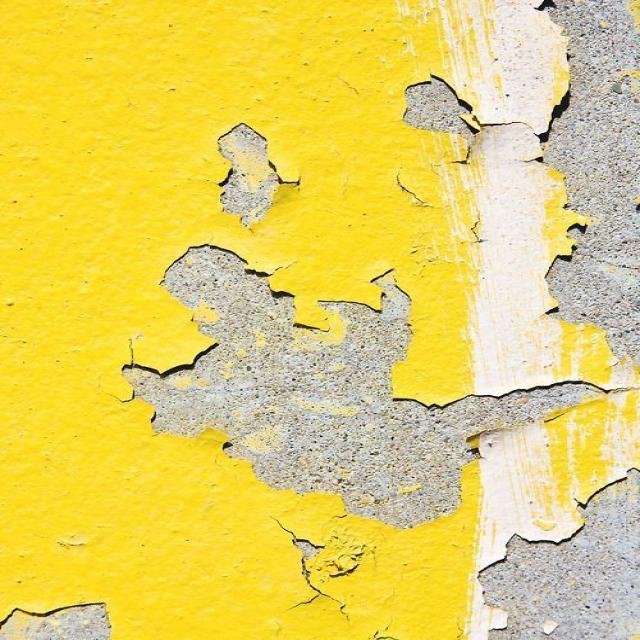peeling: (107, 11, 639, 630), (213, 116, 302, 239)
